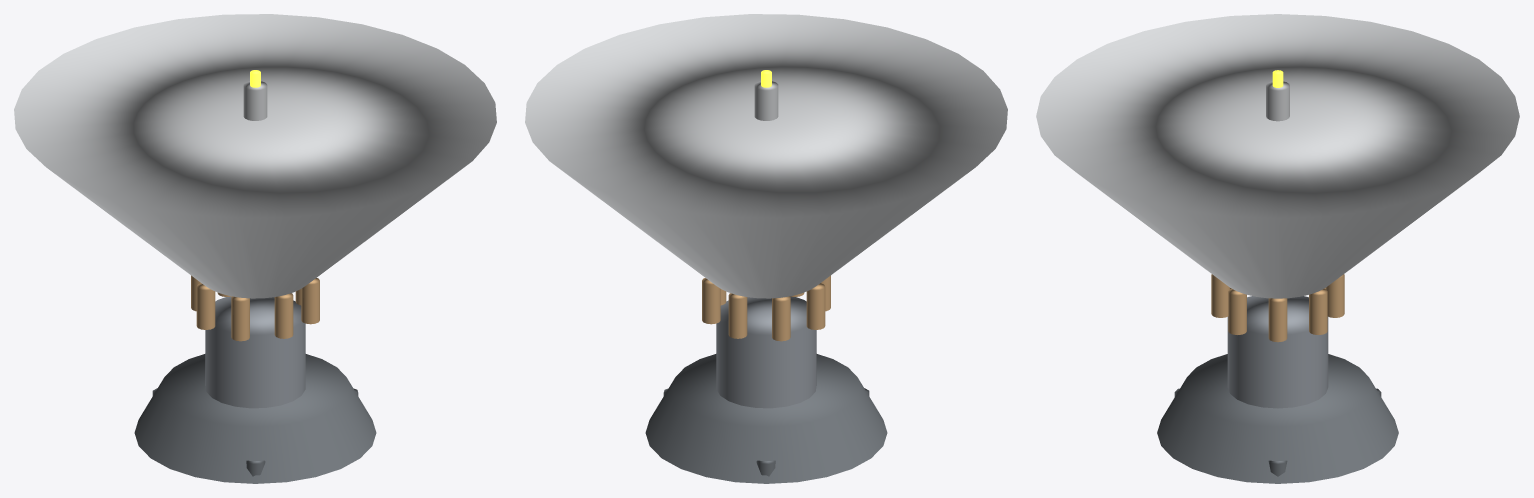
Rendered from nuclear_reactor.glb.
The picture shows the model from 3 angles, left to right: view 1: azimuth 30°, elevation 25°; view 2: azimuth 150°, elevation 25°; view 3: azimuth 270°, elevation 25°; orthographic projection.
Parts seen in each view (by area): view 1: EquipmentRoot; view 2: EquipmentRoot; view 3: EquipmentRoot.
Part boxes in pixels (box(x1,y1,x2,y2)): EquipmentRoot: box(14, 14, 496, 483); EquipmentRoot: box(525, 14, 1007, 483); EquipmentRoot: box(1036, 14, 1519, 483).
Size of the model in its own units: 7.2 by 5.92 by 7.2.
